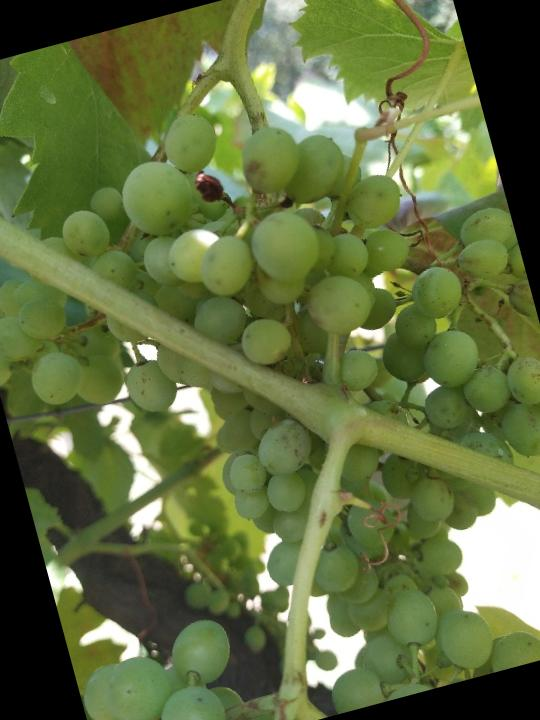grape: (0, 37, 540, 713)
